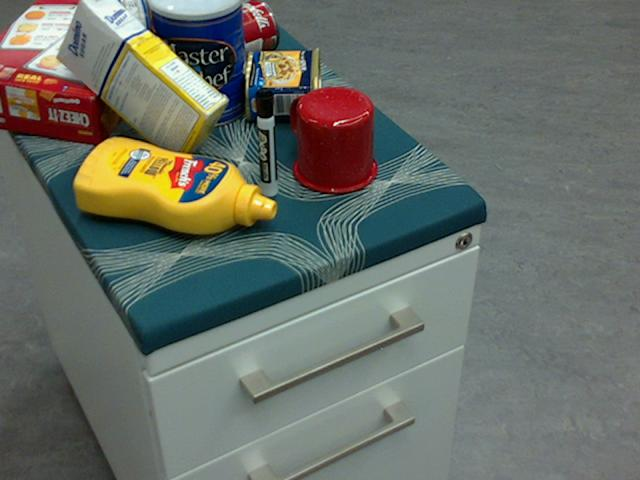cracker_box: (0, 0, 169, 146)
gelatin_box: (173, 0, 250, 41)
large_marker: (255, 87, 275, 195)
master_chef_can: (148, 0, 246, 127)
mug: (289, 85, 376, 193)
mustard_bottle: (73, 138, 277, 233)
potted_meat_can: (245, 46, 319, 122)
sugar_box: (58, 0, 230, 166)
tomato_soup_can: (182, 0, 279, 73)
tuna_fish_can: (100, 0, 150, 65)
